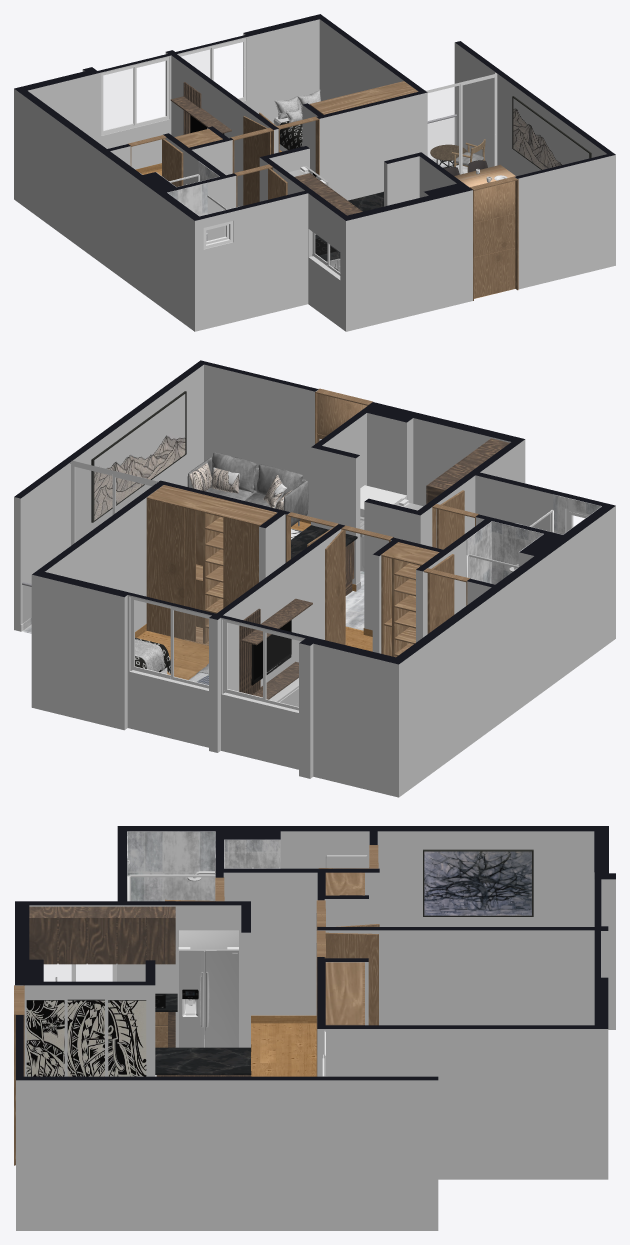
Rendered from demo-torres-de-la-francia.glb.
The picture shows the model from 3 angles, top to bottom: view 1: azimuth 30°, elevation 25°; view 2: azimuth 150°, elevation 25°; view 3: azimuth 270°, elevation 25°; orthographic projection. The views are drawn at different scales.
Parts seen in each view (by area): view 1: Box.003_primitive0, Box.003_primitive1, Puerta_3.001, Cube, Piet Mondrian's Gray Tree_primitive1, Base, Box.011_primitive0, Wardrobe.001, Cube.011, Box.004, Cube_010_Material_001_1_2.007, Comedor_Madera (+2 smaller); view 2: Box.003_primitive0, Box.003_primitive1, Wardrobe.001, Box.001, Puerta_3.001, Cube, Piet Mondrian's Gray Tree_primitive1, Box.004, Box.011_primitive0, Soderhamn, Base, Box_primitive0 (+7 smaller); view 3: Box.003_primitive0, Box.003_primitive1, Box.011_primitive0, Painting.001_primitive1, Box.004, Nevera_Doble, Piet Mondrian's Gray Tree.001_primitive0, Puerta_3.001, Box_primitive0, Wardrobe.001, Box.011_primitive2, Cube (+2 smaller).
Part boxes in pixels (<box>): Box.003_primitive0: <box>14,19,615,331</box>; Box.003_primitive1: <box>14,14,615,220</box>; Puerta_3.001: <box>128,112,518,300</box>; Cube: <box>104,50,493,271</box>; Piet Mondrian's Gray Tree_primitive1: <box>513,98,589,169</box>; Base: <box>102,39,495,275</box>; Box.011_primitive0: <box>170,82,362,215</box>; Wardrobe.001: <box>174,81,418,147</box>; Cube.011: <box>101,38,497,265</box>; Box.004: <box>156,158,467,240</box>; Cube_010_Material_001_1_2.007: <box>274,89,320,122</box>; Comedor_Madera: <box>454,165,515,187</box>; Box.003_primitive0: <box>14,364,615,797</box>; Box.003_primitive1: <box>14,360,615,664</box>; Wardrobe.001: <box>146,485,439,657</box>; Box.001: <box>148,499,257,641</box>; Puerta_3.001: <box>286,388,479,644</box>; Cube: <box>23,467,299,706</box>; Piet Mondrian's Gray Tree_primitive1: <box>94,394,185,520</box>; Box.004: <box>20,494,601,633</box>; Box.011_primitive0: <box>239,438,509,699</box>; Soderhamn: <box>187,452,308,526</box>; Base: <box>72,439,587,710</box>; Box_primitive0: <box>135,519,372,679</box>; Box.003_primitive0: <box>15,831,615,1230</box>; Box.003_primitive1: <box>15,826,615,1080</box>; Box.011_primitive0: <box>29,906,250,1076</box>; Painting.001_primitive1: <box>26,1000,146,1076</box>; Box.004: <box>127,831,280,1076</box>; Nevera_Doble: <box>178,930,238,1047</box>; Piet Mondrian's Gray Tree.001_primitive0: <box>424,851,531,915</box>; Puerta_3.001: <box>14,845,379,1165</box>; Box_primitive0: <box>251,1015,316,1076</box>; Wardrobe.001: <box>325,872,364,1025</box>; Box.011_primitive2: <box>155,993,251,1074</box>; Cube: <box>44,964,111,980</box>.
Size of the model in its own units: 8.5 by 2.45 by 8.51.
69 materials, 43 textured.
